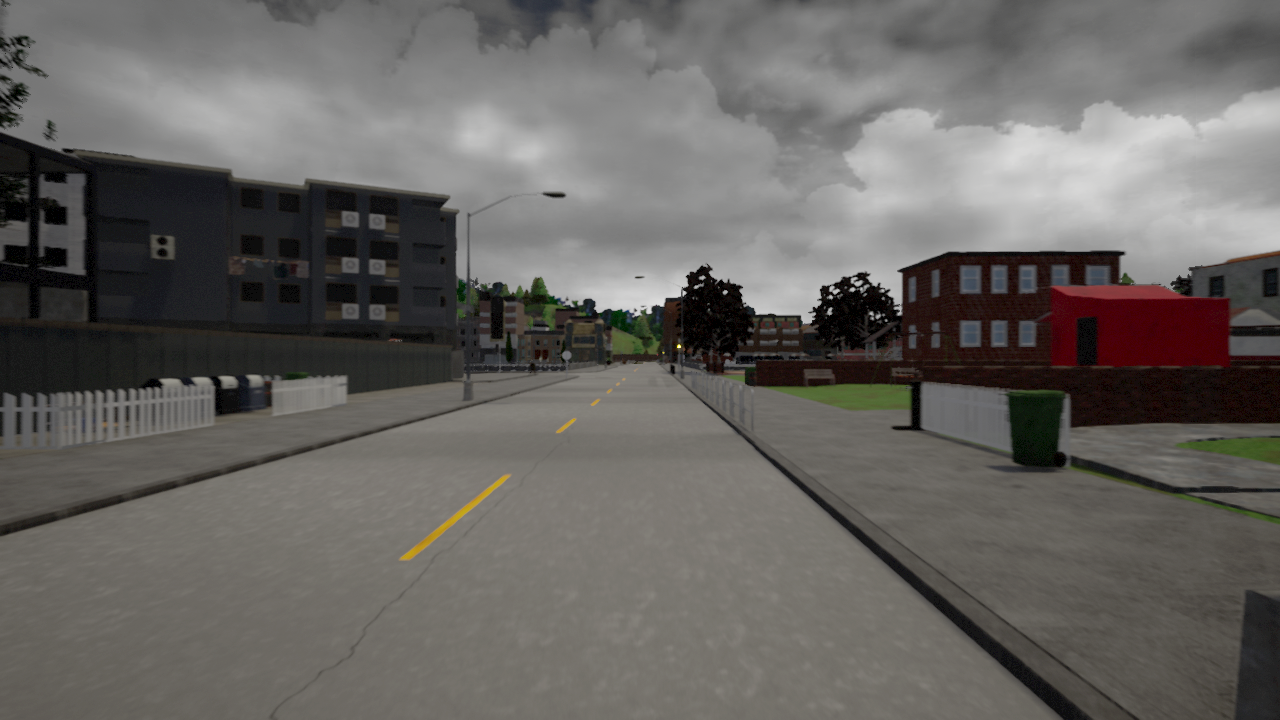yellow: (676, 341, 681, 353)
